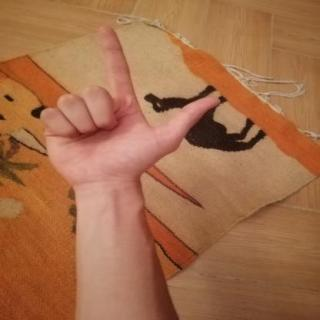LAAM: (21, 17, 232, 198)
